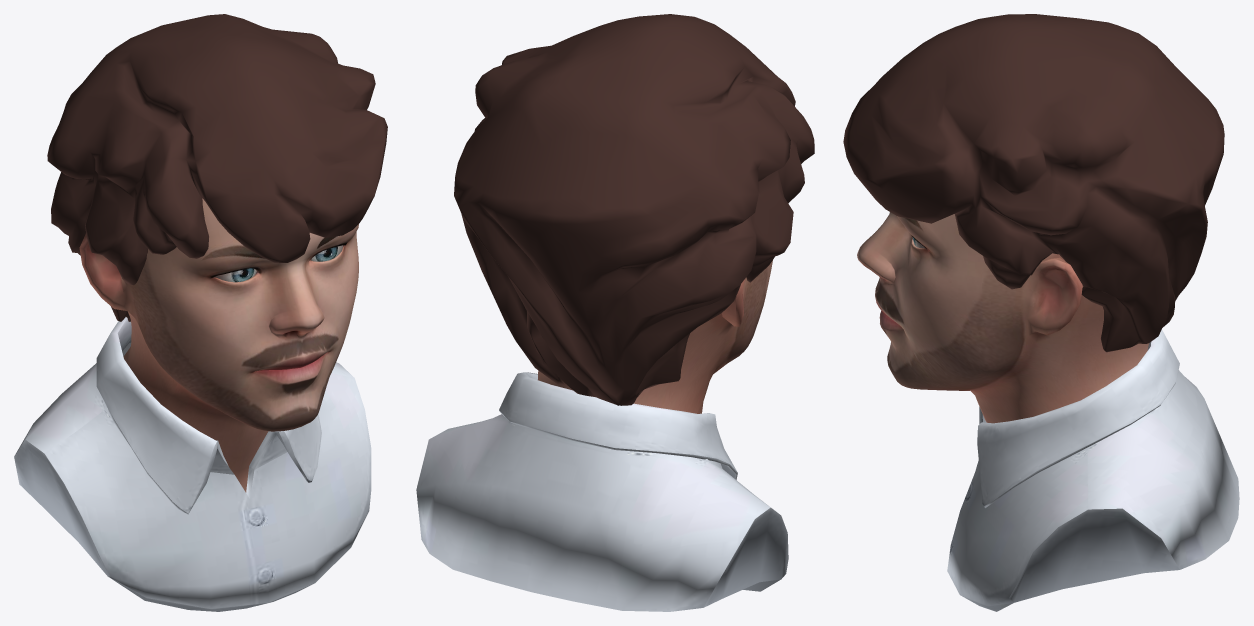
The model's file is head2.glb.
The picture shows the model from 3 angles, left to right: view 1: azimuth 30°, elevation 25°; view 2: azimuth 150°, elevation 25°; view 3: azimuth 270°, elevation 25°; orthographic projection. The views are drawn at different scales.
Parts seen in each view (by area): view 1: Wolf3D_Hair, Wolf3D_Shirt, Wolf3D_Head; view 2: Wolf3D_Hair, Wolf3D_Shirt, Wolf3D_Head; view 3: Wolf3D_Hair, Wolf3D_Shirt, Wolf3D_Head.
Part boxes in pixels (box(x1,y1,x2,y2)): Wolf3D_Hair: box(47, 14, 387, 321); Wolf3D_Shirt: box(14, 317, 371, 611); Wolf3D_Head: box(79, 198, 358, 492); Wolf3D_Hair: box(454, 14, 814, 405); Wolf3D_Shirt: box(416, 372, 788, 611); Wolf3D_Head: box(538, 260, 772, 413); Wolf3D_Hair: box(843, 14, 1224, 352); Wolf3D_Shirt: box(947, 329, 1239, 611); Wolf3D_Head: box(857, 212, 1149, 423).
Size of the model in its own units: 0.2312 by 0.3844 by 0.2487.
Materials: 4 (4 with a texture image).
